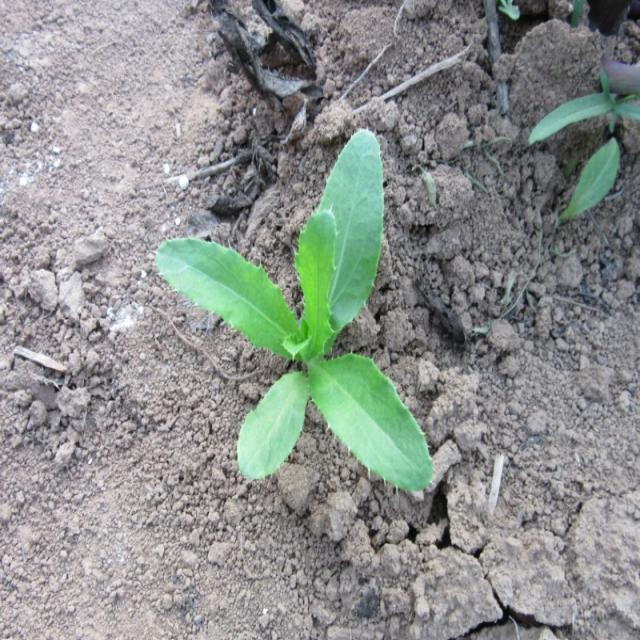cs: (154, 127, 436, 496)
